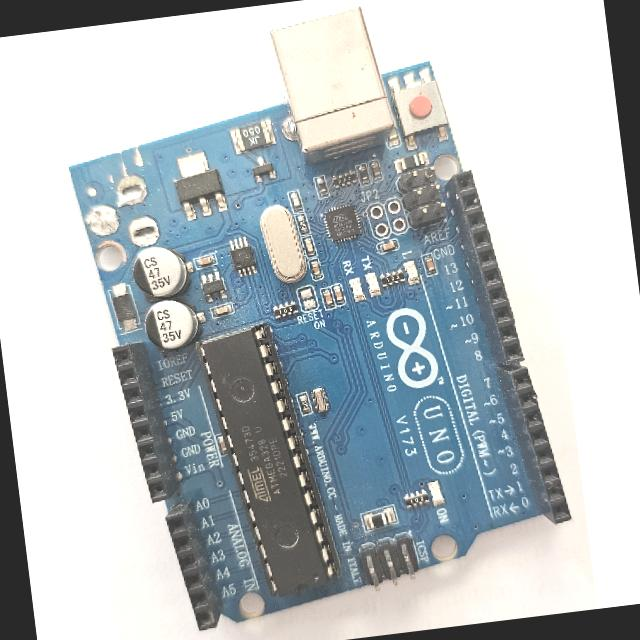missing_eps: (74, 105, 183, 260)
